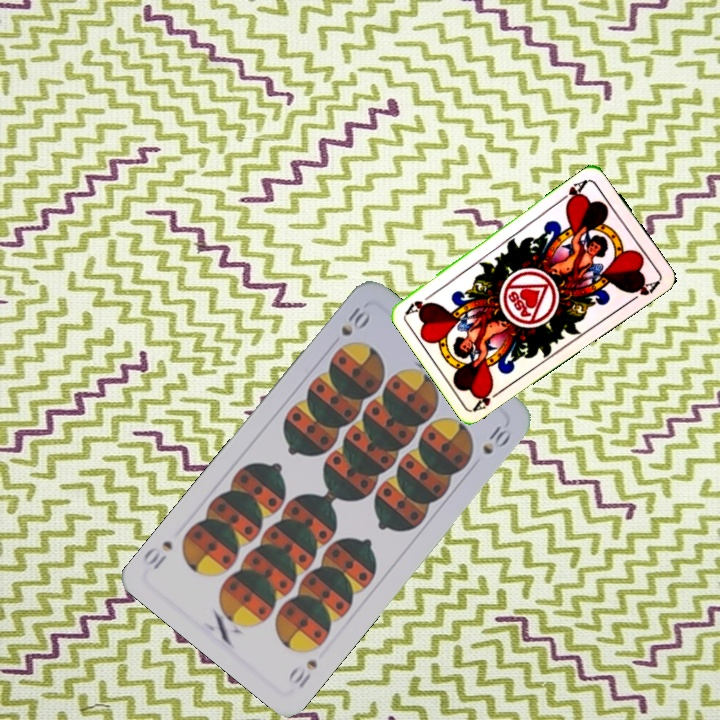HA: (556, 175, 591, 209), (470, 383, 506, 413)
S10: (336, 301, 374, 339), (284, 655, 320, 691)
